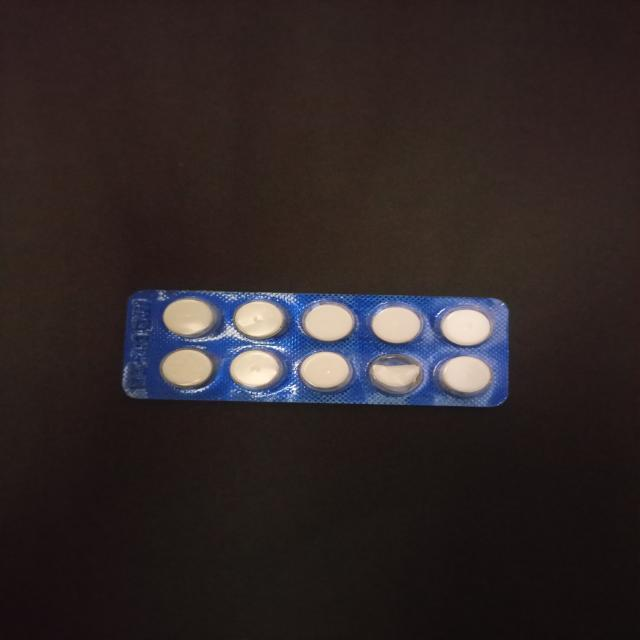defect: (366, 353, 426, 398)
